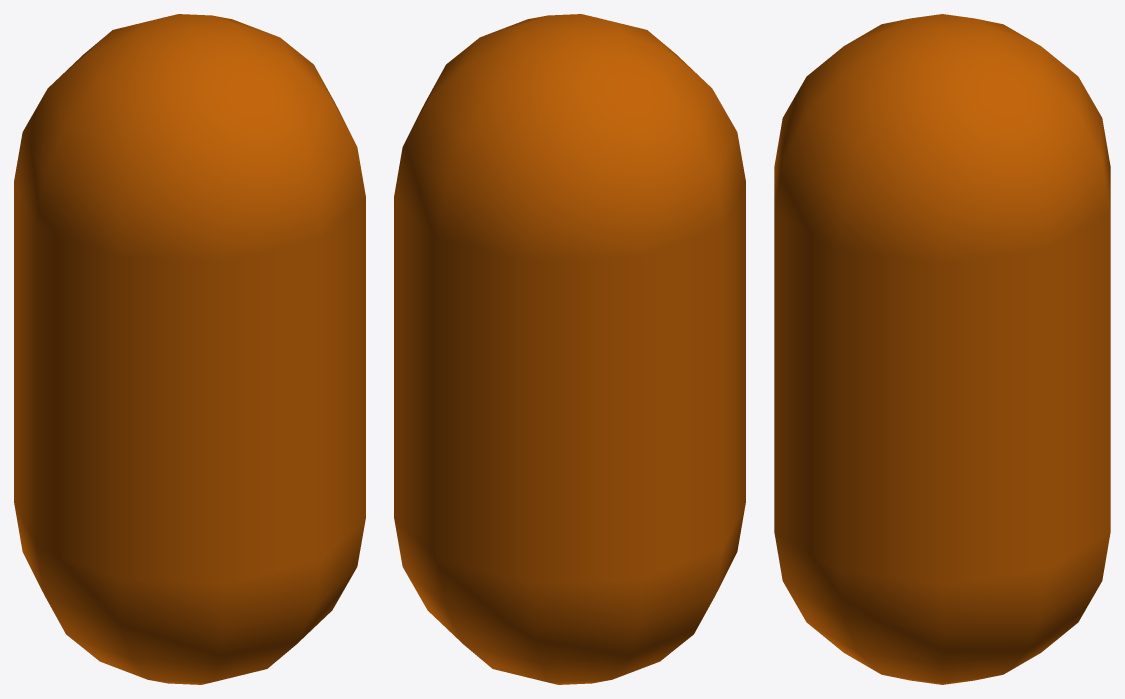
3 views of the same model, side by side, from view 1: azimuth 30°, elevation 25°; view 2: azimuth 150°, elevation 25°; view 3: azimuth 270°, elevation 25° (orthographic).
Visible parts, largest first — view 1: Capsule; view 2: Capsule; view 3: Capsule.
Part boxes in pixels (x1,y1,x2,y2): Capsule: (14,14,365,684); Capsule: (394,14,745,684); Capsule: (774,14,1110,684).
Size of the model in its own units: 0.1 by 0.2 by 0.0951.
